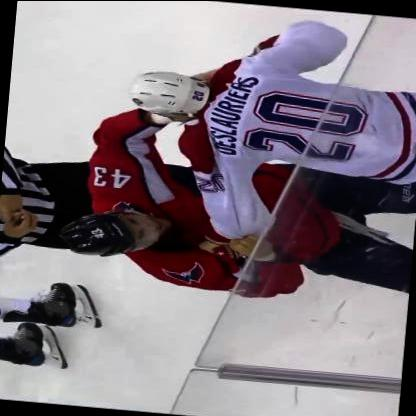voilence: (56, 1, 404, 307)
